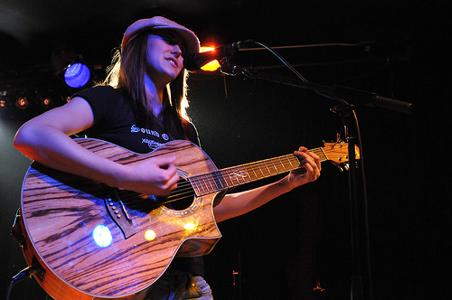person: (14, 17, 322, 300)
